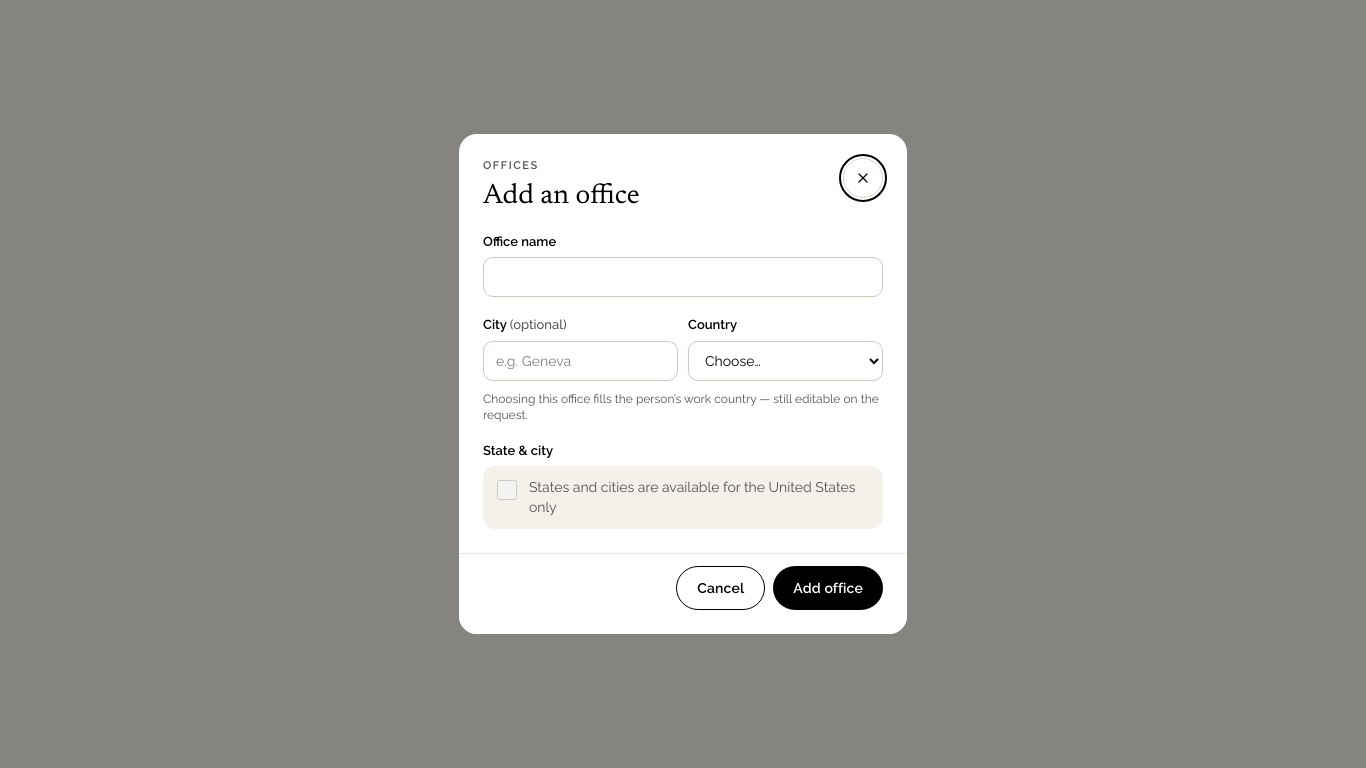
OfficeSheet › asks for a country first
Type "Somewhere" into the field labelled "Office name" at (683, 277), box [483,257,883,297]
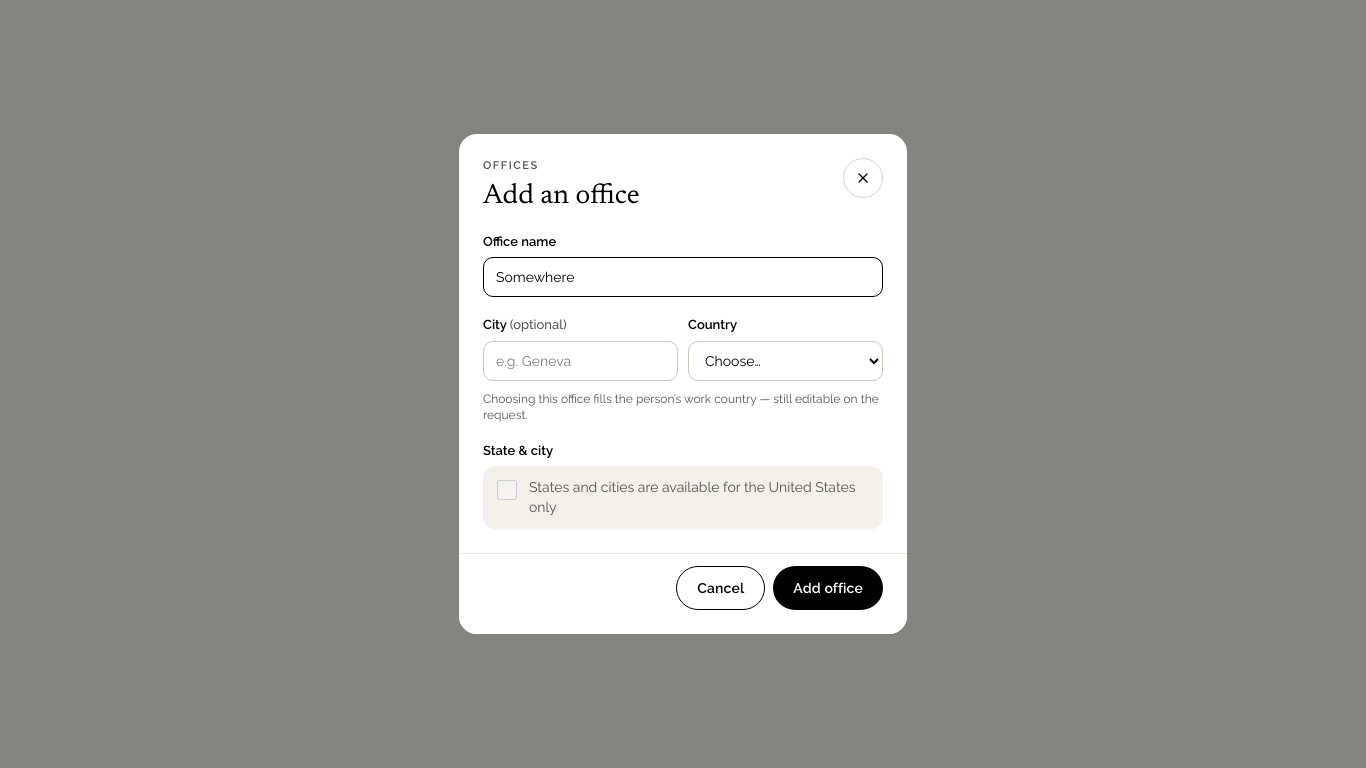
Click the button "Add office" at (828, 588), box [773,566,883,610]
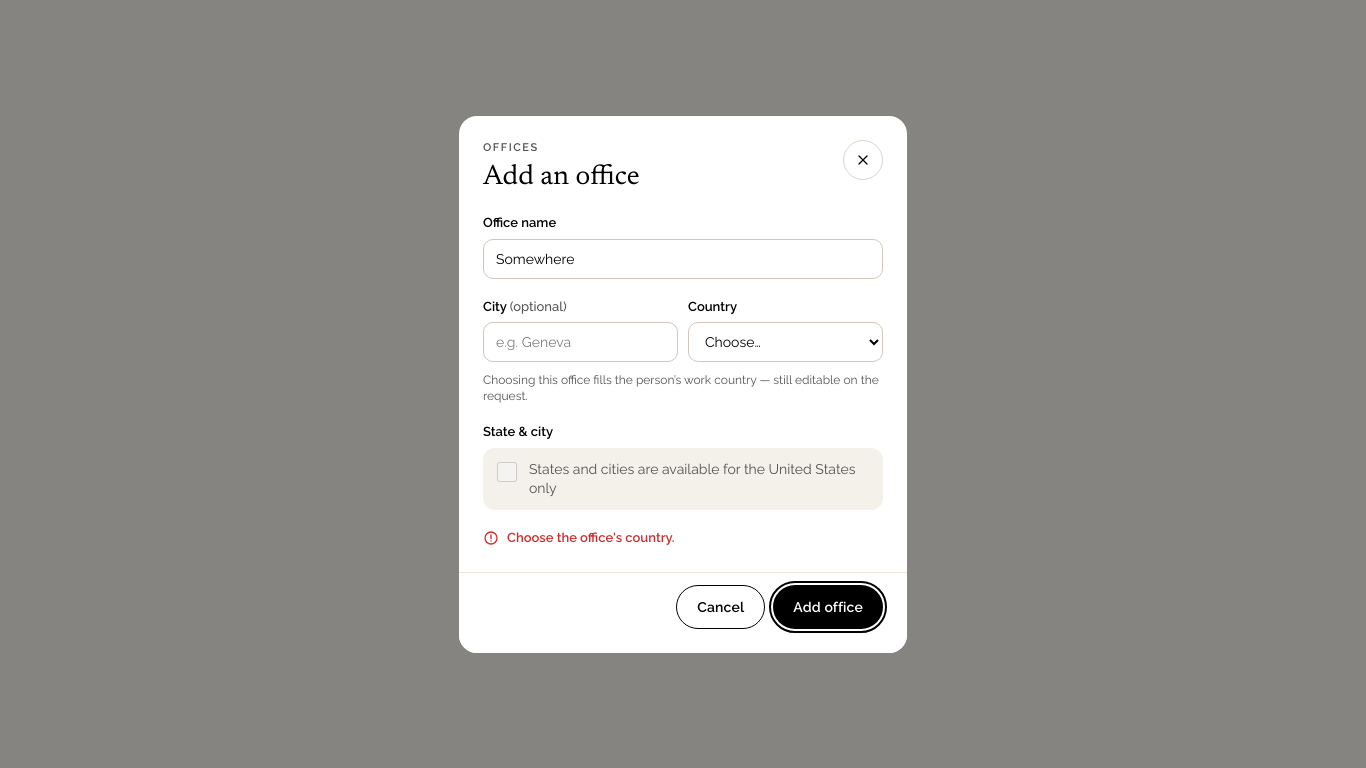
Expected: the text "Choose the office's country." is shown, [507,528,675,548]
